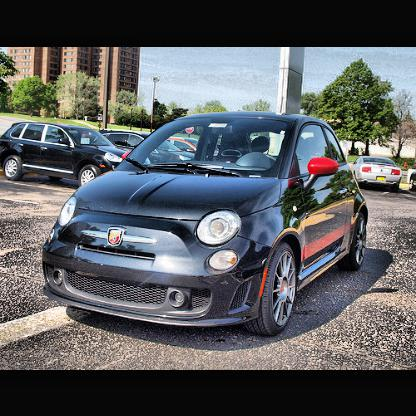FIAT 500 Abarth 2012: (43, 112, 369, 337)
